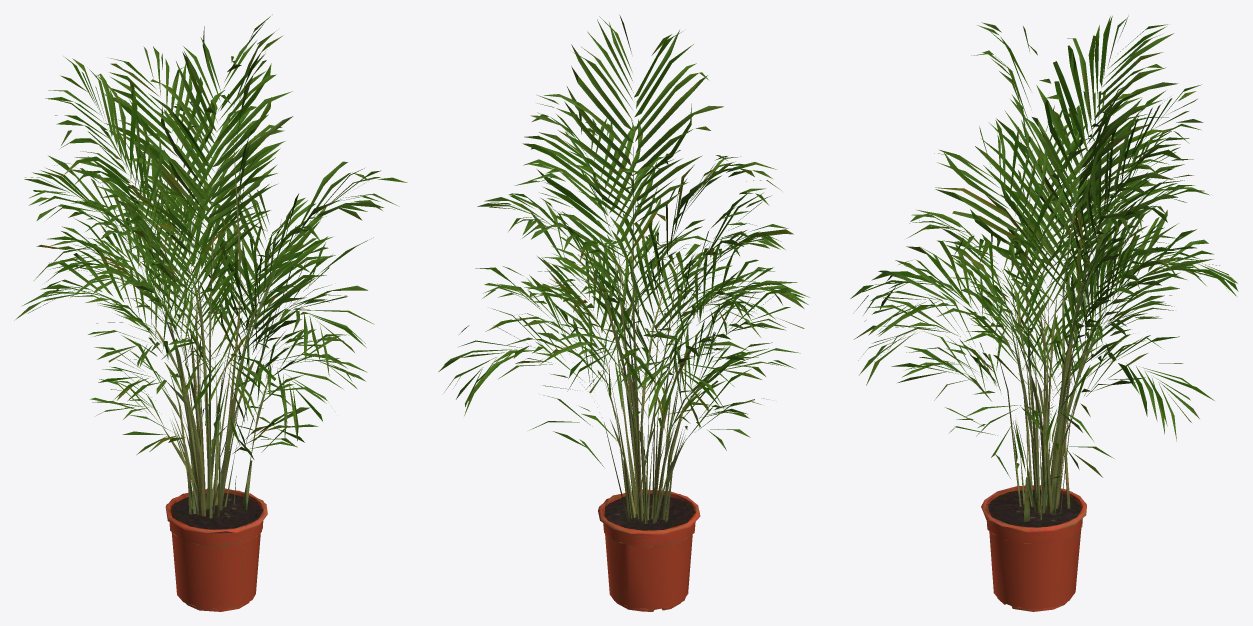
Rendered from Plant3.glb.
3 views of the same model, side by side, from view 1: azimuth 30°, elevation 25°; view 2: azimuth 150°, elevation 25°; view 3: azimuth 270°, elevation 25° (orthographic). The views are drawn at different scales.
Visible parts, largest first — view 1: Mesh_0; view 2: Mesh_0; view 3: Mesh_0.
Part boxes in pixels (x1=…): Mesh_0: x1=14, y1=14, x2=407, y2=611; Mesh_0: x1=438, y1=15, x2=809, y2=611; Mesh_0: x1=850, y1=16, x2=1238, y2=611.
Bounding box in the file's own units: 0.8534 × 1.47 × 0.8786.
1 material, 1 textured.
